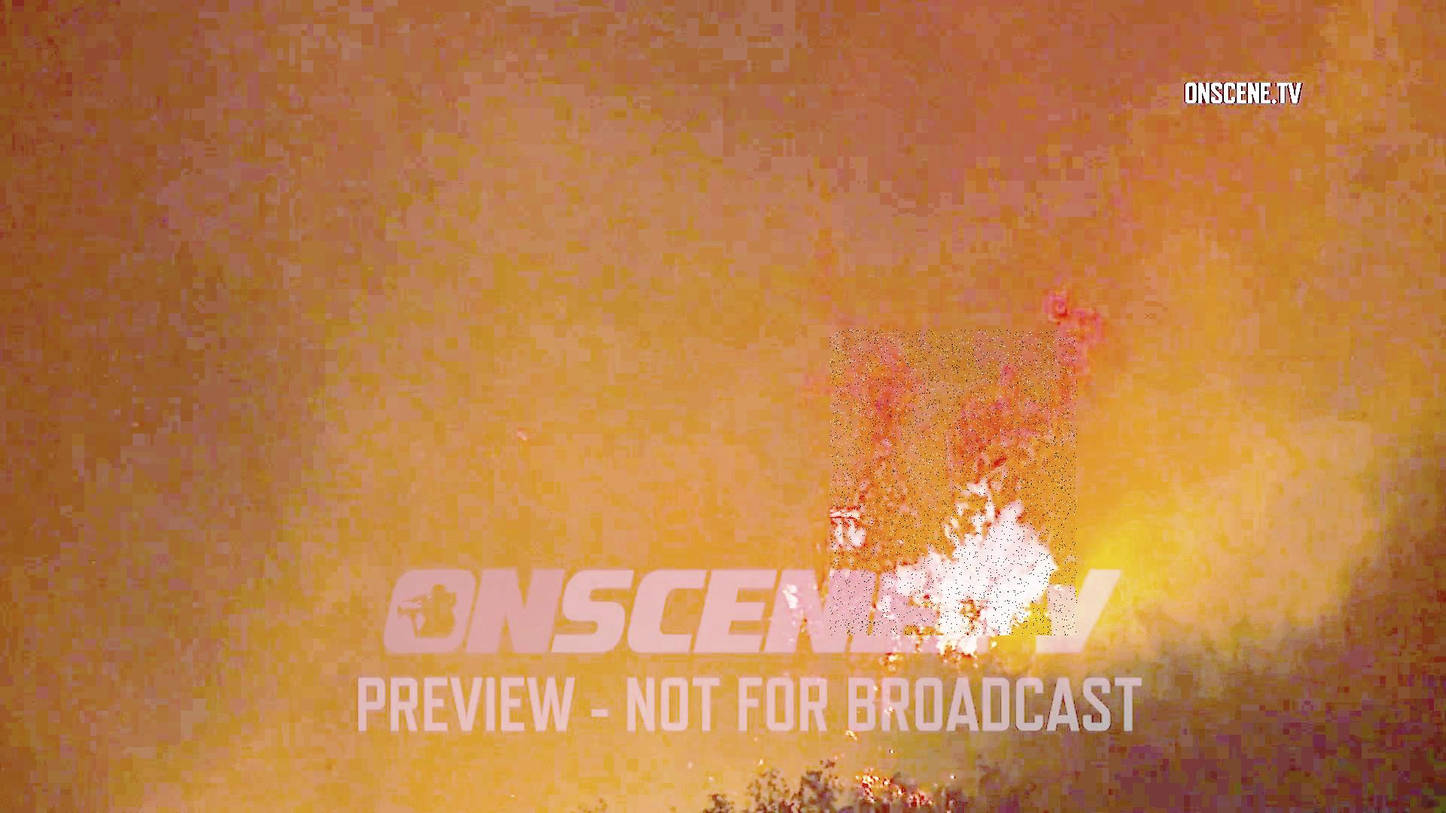fire: (831, 330, 1078, 635)
